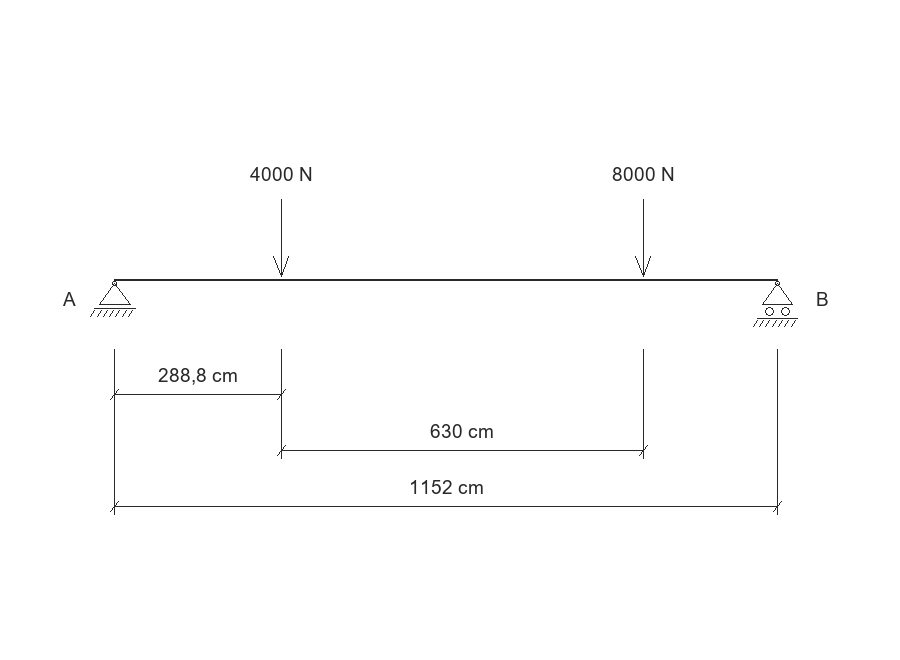pin_support: (90, 281, 136, 317)
point_load: (273, 199, 289, 277), (635, 199, 651, 277)
roller_support: (753, 281, 798, 327)
